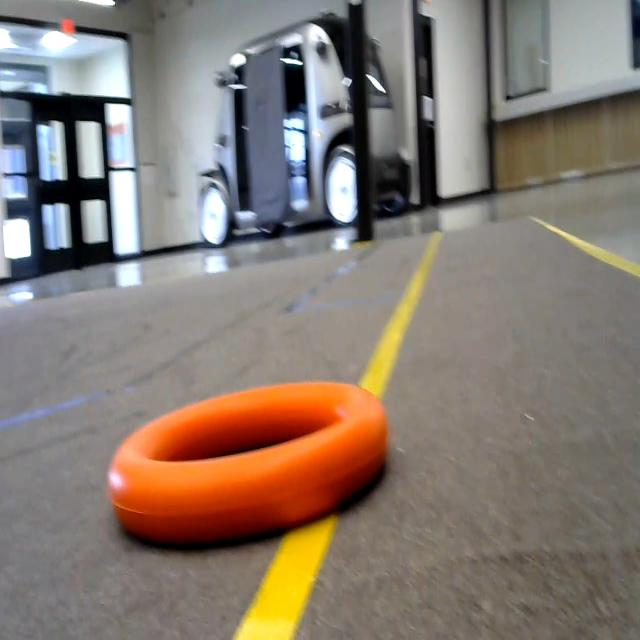note: (96, 385, 391, 557)
